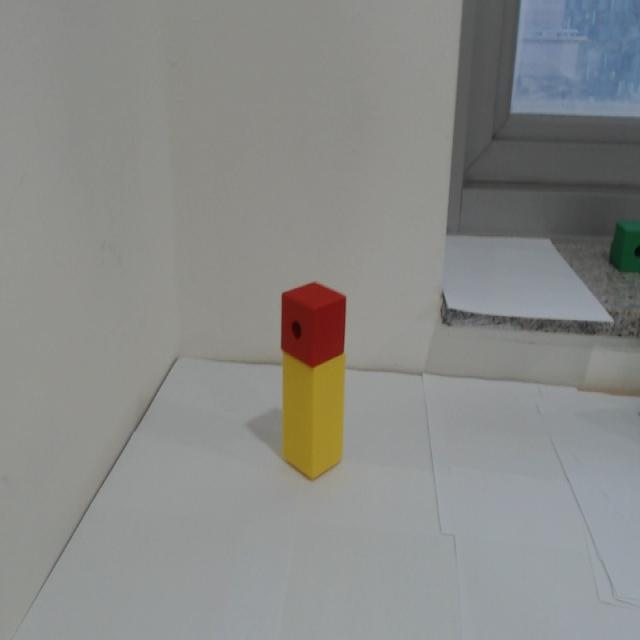cube: (280, 280, 347, 369)
